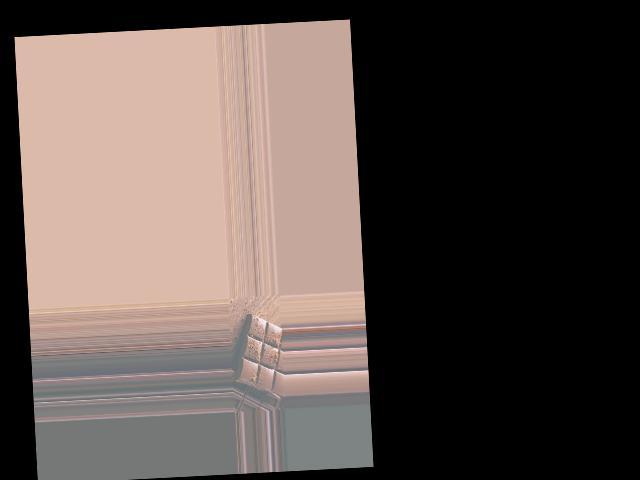chocolate: (233, 308, 284, 399)
